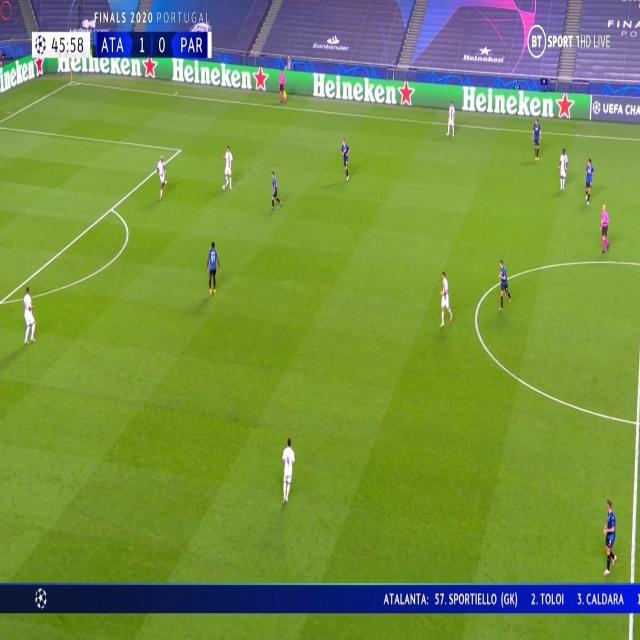player: (601, 494, 618, 576), (280, 433, 296, 504), (21, 284, 37, 345), (438, 268, 452, 328), (206, 239, 220, 297), (497, 257, 511, 311), (582, 155, 596, 205), (220, 141, 233, 192), (268, 170, 284, 210), (598, 200, 610, 253), (156, 151, 168, 199), (339, 137, 352, 181), (557, 144, 568, 190), (531, 116, 542, 161), (445, 97, 456, 137), (277, 66, 288, 104)
